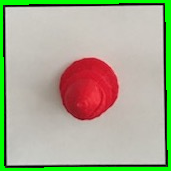Red Bishop: (56, 54, 121, 124)
